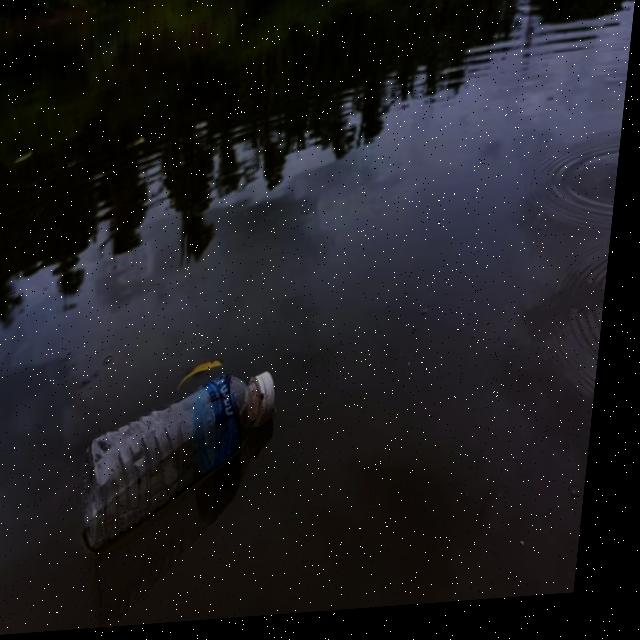waterbottle: (85, 358, 293, 565)
